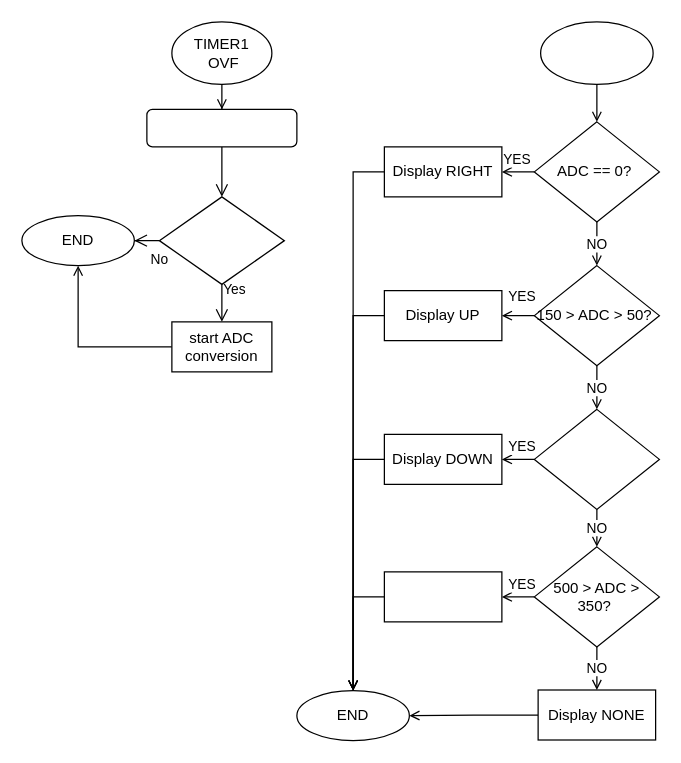
This 681x763 diagram has some shape labels left out. Each missing label, with the box of its shape:
300 > ADC > 150?: (533, 408, 659, 509)
ADC vect: (539, 21, 653, 84)
Display LEFT: (383, 571, 502, 622)
number of OVS ++: (146, 108, 297, 147)
number of OVS >3?: (158, 196, 284, 284)
